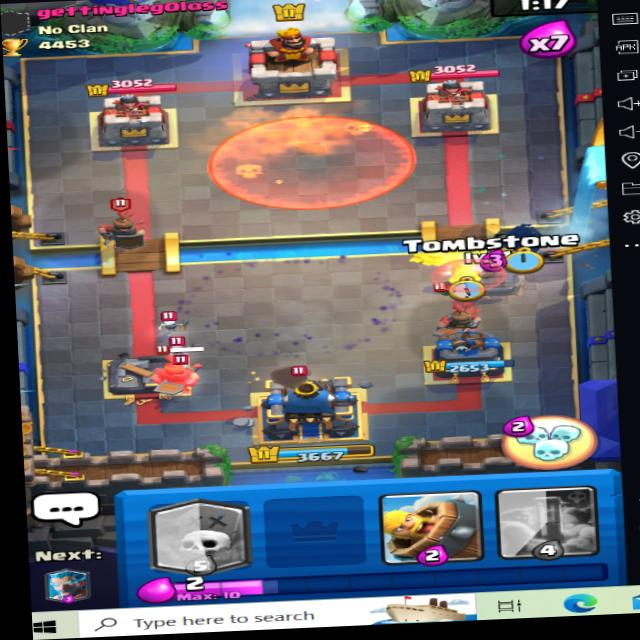poison: (212, 105, 417, 214)
royal-recruits: (422, 273, 496, 333), (82, 200, 153, 259), (144, 350, 201, 404)
skeleton: (156, 314, 185, 336)
